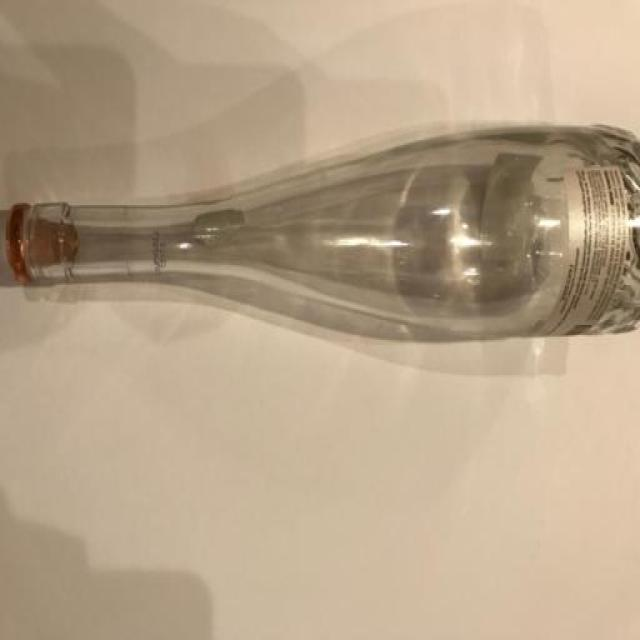glass: (5, 125, 640, 345)
